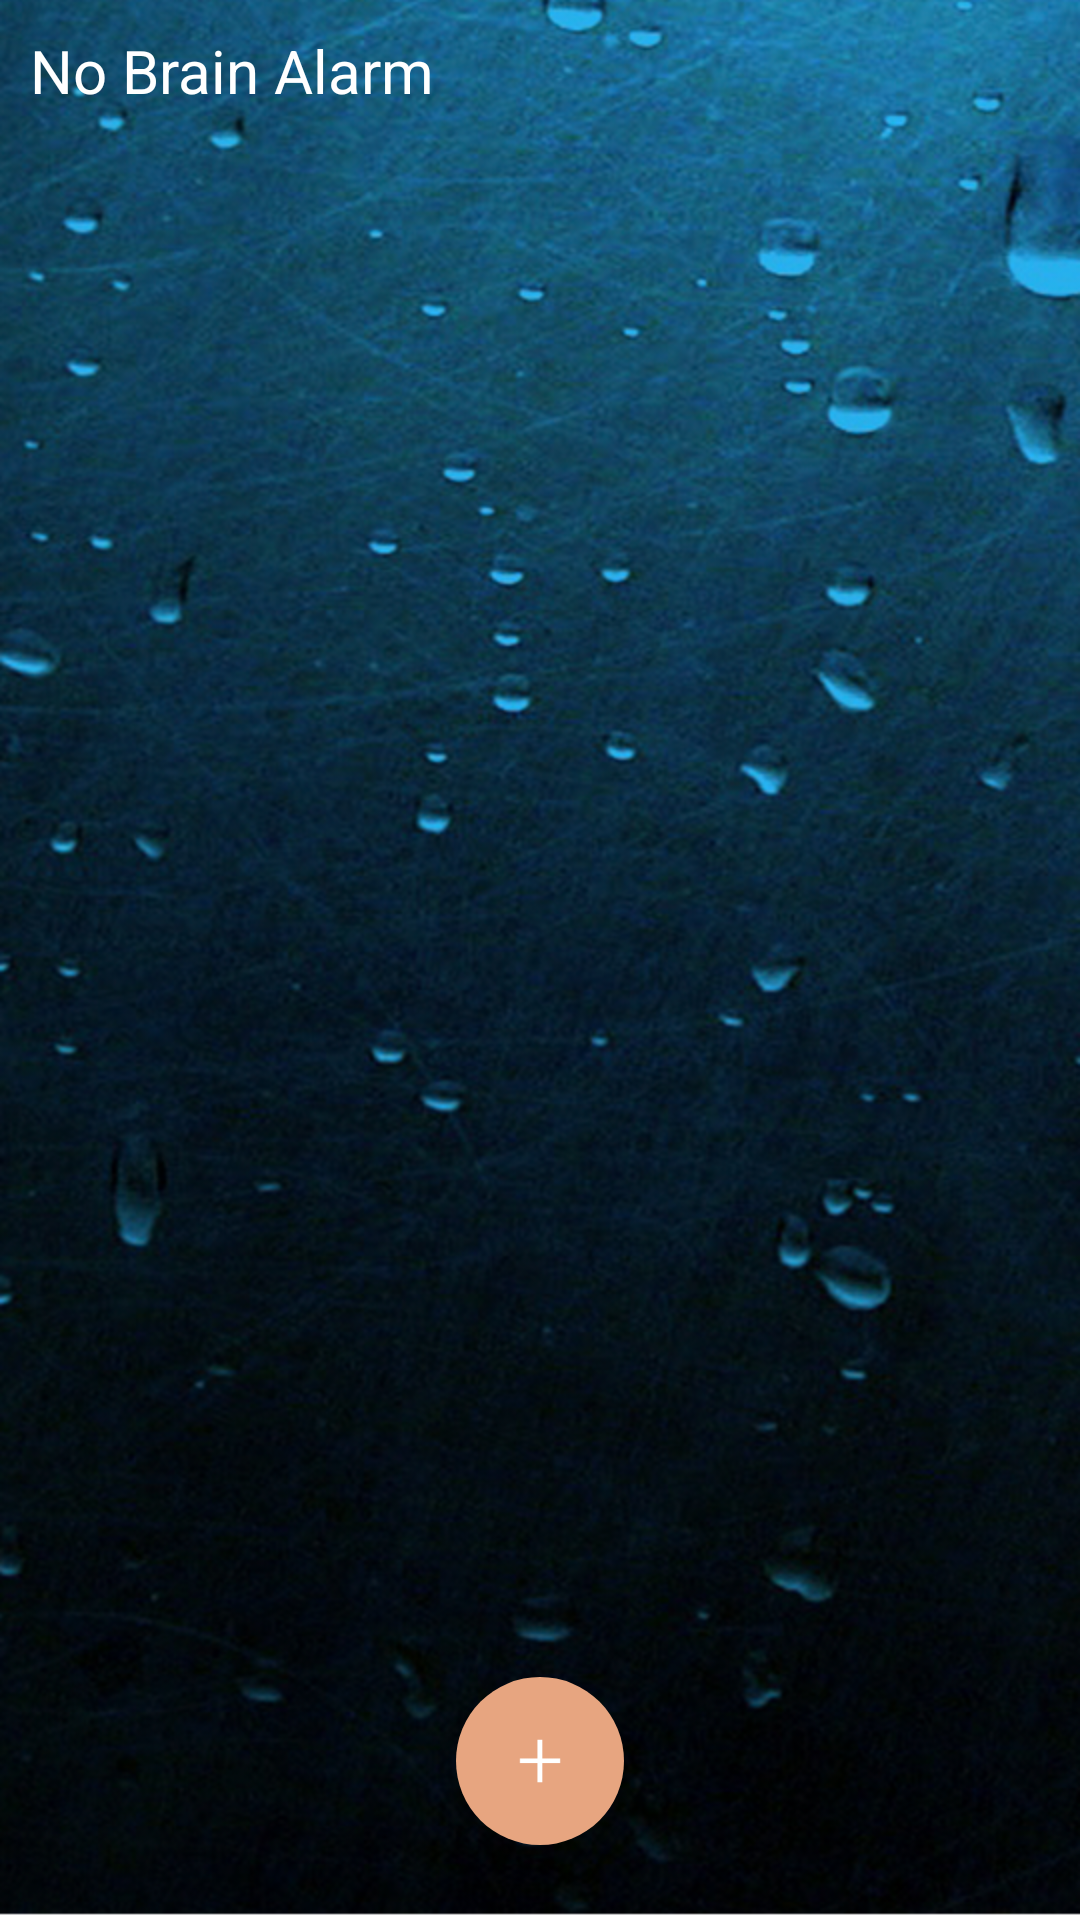

Screen size 1080*1920. Icon name, then its center in pixels as (x=x, y=y):
add: (x=540, y=1761)
